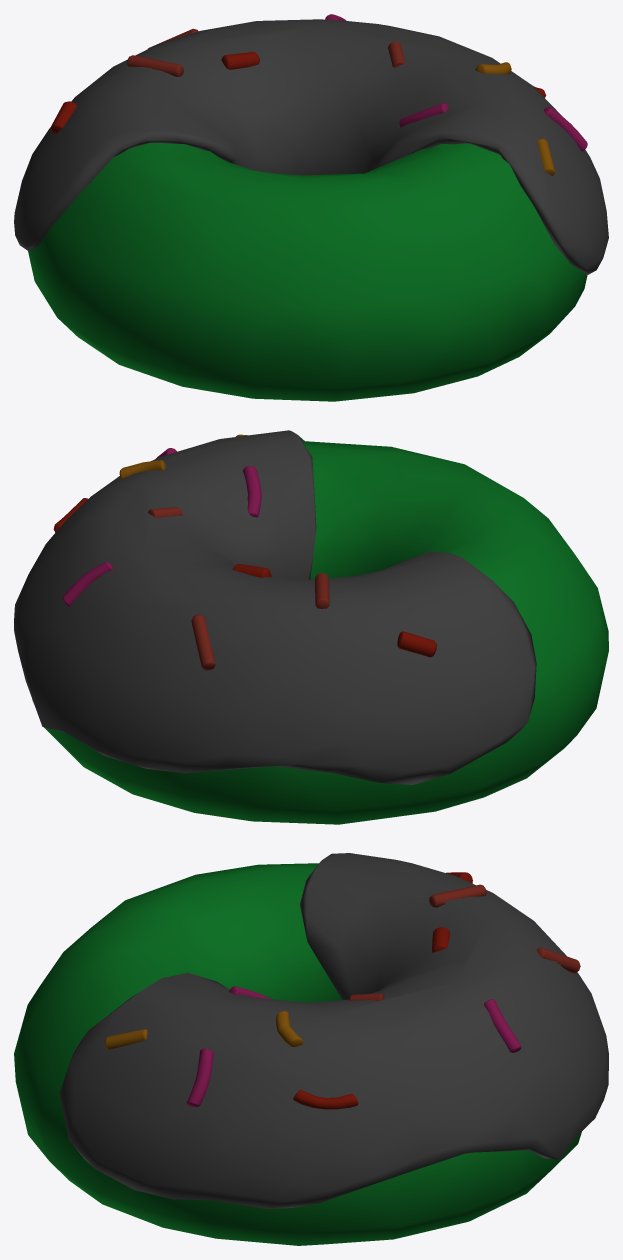
The model's file is tiantianquan.FBX.
3 views of the same model, one above another, from view 1: azimuth 30°, elevation 25°; view 2: azimuth 150°, elevation 25°; view 3: azimuth 270°, elevation 25° (orthographic). The views are drawn at different scales.
Visible parts, largest first — view 1: tiantianquan; view 2: tiantianquan; view 3: tiantianquan.
Part boxes in pixels (x1,y1,x2,y2): tiantianquan: (14,14,608,401); tiantianquan: (14,430,608,824); tiantianquan: (14,853,608,1245).
Bounding box in the file's own units: 32.33 × 13.99 × 32.3.
